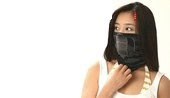face_mask: (114, 11, 141, 55)
